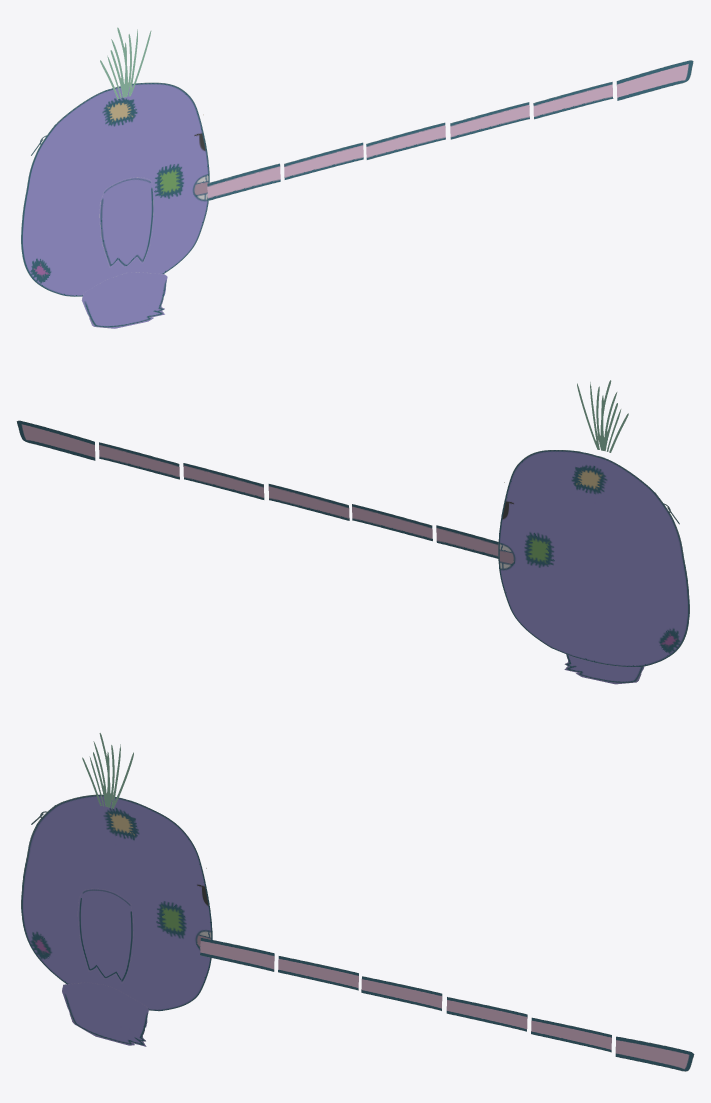
Rendered from suteppi 1.FBX.
3 renders of one model, top to bottom at view 1: azimuth 30°, elevation 25°; view 2: azimuth 150°, elevation 25°; view 3: azimuth 330°, elevation 25°, orthographic.
Parts seen in each view (by area): view 1: Plane005, Plane002, Plane003, Plane007, Plane008, Plane009, Plane010, Plane011, Plane006, Plane004; view 2: Plane005, Plane007, Plane010, Plane009, Plane011, Plane008, Plane003, Plane004, Plane006; view 3: Plane005, Plane002, Plane003, Plane007, Plane010, Plane009, Plane008, Plane011, Plane006, Plane004.
Part boxes in pixels (x1=…): Plane005: x1=21, y1=82, x2=209, y2=296; Plane002: x1=99, y1=177, x2=153, y2=267; Plane003: x1=81, y1=272, x2=167, y2=328; Plane007: x1=616, y1=60, x2=693, y2=100; Plane008: x1=284, y1=142, x2=363, y2=179; Plane009: x1=366, y1=122, x2=445, y2=159; Plane010: x1=450, y1=102, x2=529, y2=139; Plane011: x1=533, y1=81, x2=613, y2=119; Plane006: x1=207, y1=163, x2=280, y2=200; Plane004: x1=100, y1=27, x2=151, y2=99; Plane005: x1=498, y1=450, x2=689, y2=666; Plane007: x1=16, y1=420, x2=95, y2=460; Plane010: x1=183, y1=463, x2=264, y2=499; Plane009: x1=268, y1=484, x2=349, y2=520; Plane011: x1=99, y1=442, x2=179, y2=479; Plane008: x1=352, y1=504, x2=432, y2=541; Plane003: x1=564, y1=654, x2=644, y2=684; Plane004: x1=577, y1=380, x2=628, y2=452; Plane006: x1=436, y1=525, x2=498, y2=558; Plane005: x1=21, y1=794, x2=212, y2=1011; Plane002: x1=77, y1=888, x2=133, y2=983; Plane003: x1=62, y1=982, x2=148, y2=1046; Plane007: x1=615, y1=1036, x2=694, y2=1071; Plane010: x1=446, y1=997, x2=527, y2=1031; Plane009: x1=361, y1=976, x2=442, y2=1010; Plane008: x1=278, y1=956, x2=358, y2=990; Plane011: x1=531, y1=1017, x2=611, y2=1052; Plane006: x1=200, y1=937, x2=274, y2=971; Plane004: x1=82, y1=733, x2=133, y2=808.
Size of the model in its own units: 84.1 by 36.21 by 2.4.
